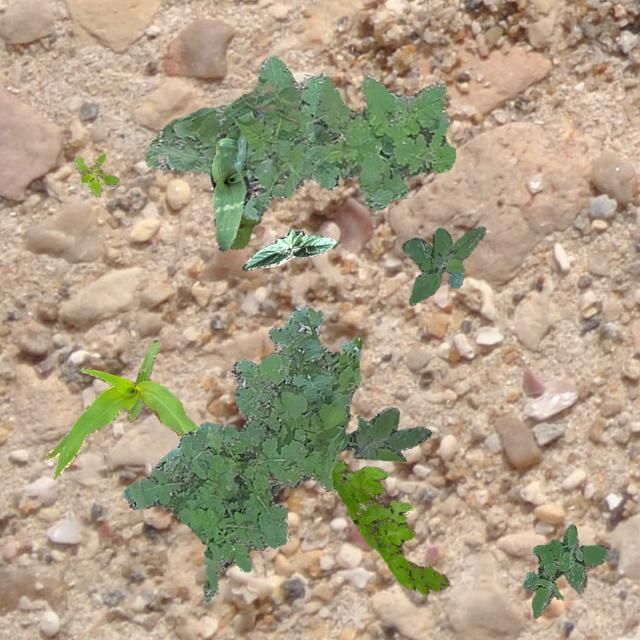crop: (45, 338, 196, 478), (210, 121, 250, 252), (242, 228, 336, 270), (228, 214, 260, 248)
weed: (122, 308, 362, 602), (144, 54, 454, 218), (330, 460, 448, 592), (522, 522, 606, 618), (400, 226, 484, 304), (338, 406, 430, 460), (74, 152, 118, 196)
